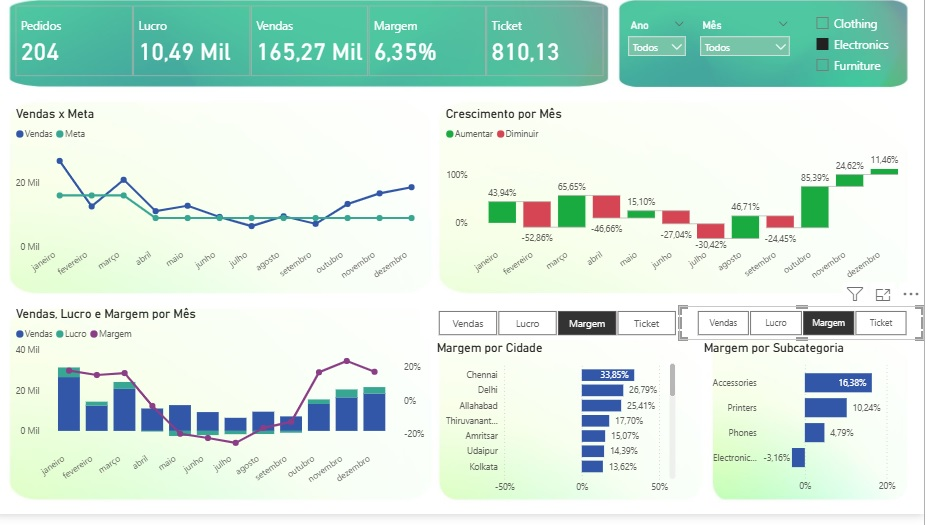

The dashboard page shown, as its layout file describes it:
{"tool":"powerbi","page":{"name":"Página 1","canvas":[1280,720],"ordinal":0},"visuals":[{"type":"cardVisual","fields":{"Data":["medidas.Pedidos","medidas.Lucro","medidas.Vendas","medidas.Margem","medidas.Ticket Medio"]},"box":[24.8,15.1,823.1,107.4],"z":0},{"type":"slicer","fields":{"Values":["calendario.Ano"]},"box":[863,34.4,99.1,86.7],"z":1000},{"type":"slicer","fields":{"Values":["calendario.Nome Mes"]},"box":[962.1,34.4,143.1,158.3],"z":2000},{"type":"slicer","fields":{"Values":["metas.category"]},"box":[1119,24.8,129.4,106],"z":3000},{"type":"lineChart","title":"Vendas x Meta","fields":{"Category":["calendario.Data.Variation.Hierarquia de datas.Ano","calendario.Data.Variation.Hierarquia de datas.Mês"],"Y":["medidas.Vendas","Sum(metas.target)"]},"box":[24.8,158.3,572.6,260.1],"z":4000},{"type":"lineStackedColumnComboChart","fields":{"Category":["calendario.Data.Variation.Hierarquia de datas.Ano","calendario.Data.Variation.Hierarquia de datas.Mês"],"Y":["medidas.Vendas","medidas.Lucro"],"Y2":["medidas.Margem"]},"box":[24.8,433.5,572.6,265.6],"z":5000},{"type":"waterfallChart","fields":{"Category":["calendario.Ano Mes.Variation.Hierarquia de datas.Mês"],"Y":["medidas.Crescimento"]},"box":[616.6,158.3,652.4,260.1],"z":6000},{"type":"clusteredBarChart","fields":{"Y":["medidas.Vendas"],"Category":["clientes.city"]},"box":[604.2,480.3,338.6,220.2],"z":7000},{"type":"slicer","fields":{"Values":["Selecao Cidade.Selecao Cidade"]},"box":[586.3,433.5,375.7,46.8],"z":8000},{"type":"clusteredBarChart","fields":{"Y":["medidas.Vendas"],"Category":["vendas.subcategory"]},"box":[971.7,480.3,294.5,218.8],"z":9000},{"type":"slicer","fields":{"Values":["Selecao Subcategoria.Selecao Subcategoria"]},"box":[942.8,433.5,337.2,46.8],"z":10000}]}

Visuals, with their boxes in screenshot pixels (x1, y1, x2, y2), scaled from the page's 1280x720 canvas onto the 929x525 screenshot:
cardVisual - medidas.Pedidos x medidas.Lucro: <region>18, 11, 615, 89</region>
slicer - calendario.Ano: <region>626, 25, 698, 88</region>
slicer - calendario.Nome Mes: <region>698, 25, 802, 141</region>
slicer - metas.category: <region>812, 18, 906, 95</region>
"Vendas x Meta" lineChart: <region>18, 115, 434, 305</region>
lineStackedColumnComboChart - calendario.Data.Variation.Hierarquia de datas.Ano x calendario.Data.Variation.Hierarquia de datas.Mês: <region>18, 316, 434, 510</region>
waterfallChart - calendario.Ano Mes.Variation.Hierarquia de datas.Mês x medidas.Crescimento: <region>448, 115, 921, 305</region>
clusteredBarChart - medidas.Vendas x clientes.city: <region>439, 350, 684, 511</region>
slicer - Selecao Cidade.Selecao Cidade: <region>426, 316, 698, 350</region>
clusteredBarChart - medidas.Vendas x vendas.subcategory: <region>705, 350, 919, 510</region>
slicer - Selecao Subcategoria.Selecao Subcategoria: <region>684, 316, 928, 350</region>
